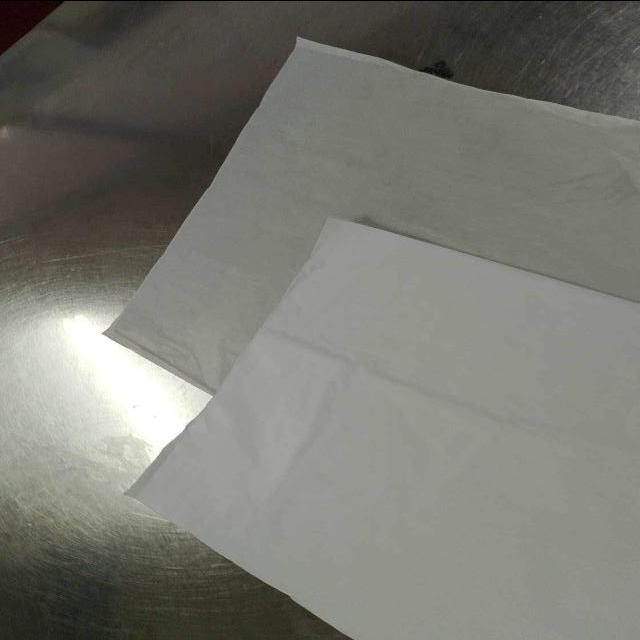Infectious: (120, 215, 638, 640)
Sharps: (258, 323, 571, 455)
